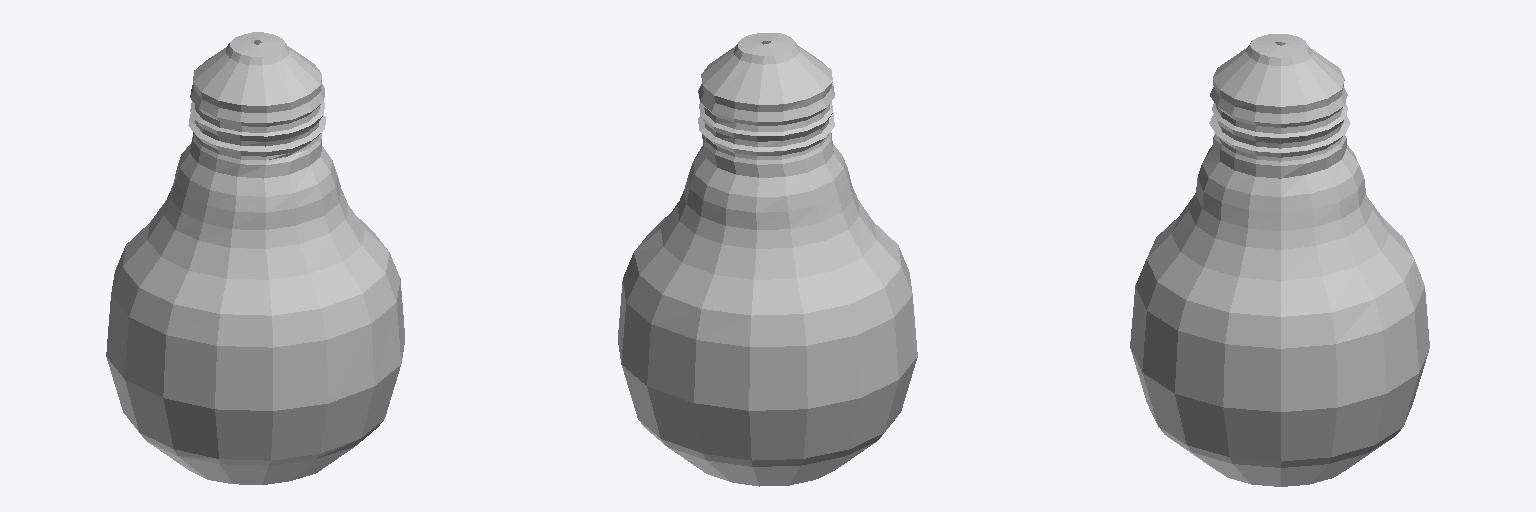
Rendered from LightbulbModel.obj.
The picture shows the model from 3 angles: view 1: azimuth 30°, elevation 25°; view 2: azimuth 150°, elevation 25°; view 3: azimuth 270°, elevation 25°; orthographic projection.
Parts seen in each view (by area): view 1: Lightbulb_Mesh; view 2: Lightbulb_Mesh; view 3: Lightbulb_Mesh.
Part boxes in pixels (bbox=[...]): Lightbulb_Mesh: bbox=[106, 32, 404, 484]; Lightbulb_Mesh: bbox=[618, 33, 917, 486]; Lightbulb_Mesh: bbox=[1130, 34, 1429, 486].
Size of the model in its own units: 0.2079 by 0.3231 by 0.2061.